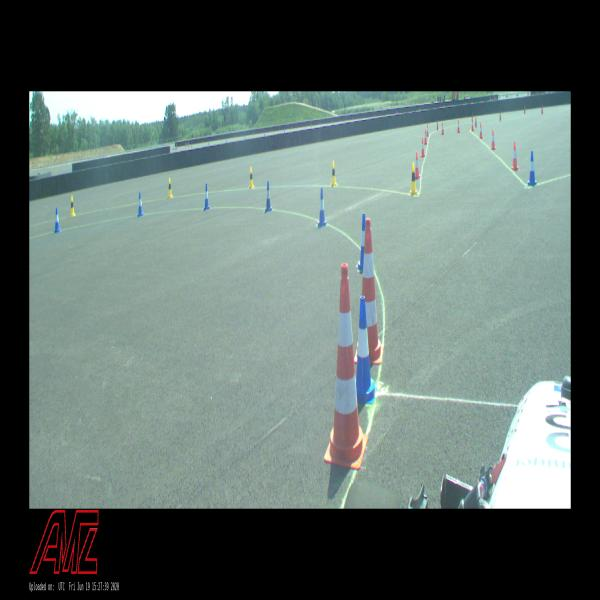blue_cone: (355, 297, 377, 405), (357, 214, 370, 273), (527, 150, 537, 186), (317, 188, 326, 227), (265, 182, 272, 212), (203, 183, 209, 211), (54, 207, 60, 233), (137, 192, 143, 216)
large_orange_cone: (323, 263, 369, 471), (354, 217, 384, 367)
orange_cone: (511, 141, 520, 171), (415, 152, 420, 178), (420, 136, 425, 157), (491, 129, 495, 150), (479, 122, 483, 139), (471, 116, 474, 132), (457, 119, 460, 134), (441, 122, 444, 135), (424, 130, 426, 145), (426, 125, 428, 136)
unknown_cone: (475, 115, 477, 128), (499, 112, 501, 121), (541, 105, 543, 114), (437, 120, 438, 130), (524, 106, 525, 113)
yellow_cone: (409, 164, 417, 196), (330, 161, 338, 187), (69, 195, 75, 216), (248, 167, 253, 189), (168, 176, 172, 198)
